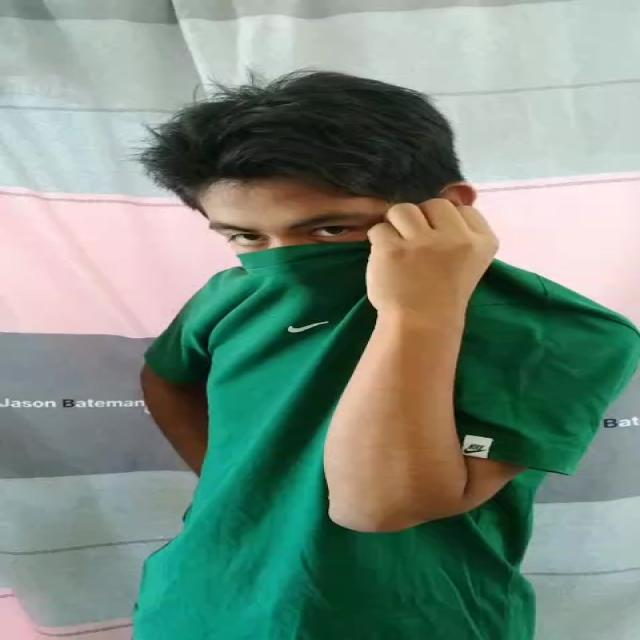8_ropa_rostro: (231, 240, 522, 343)
